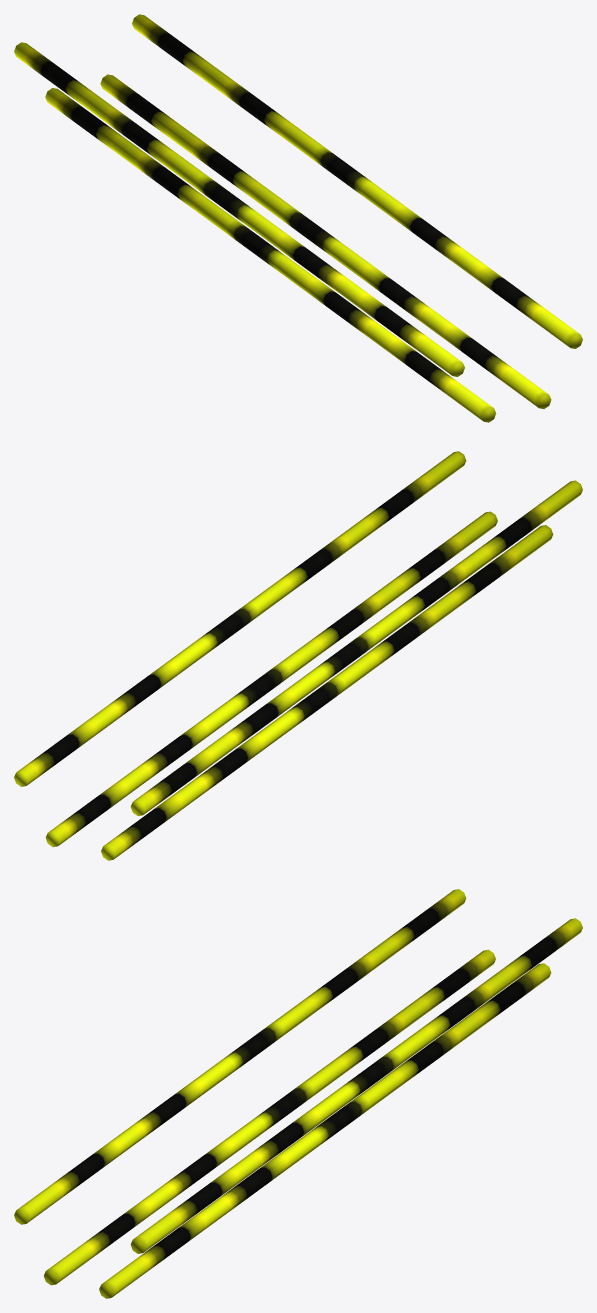
Rendered from pipe2.glb.
3 renders of one model, top to bottom at view 1: azimuth 30°, elevation 25°; view 2: azimuth 150°, elevation 25°; view 3: azimuth 330°, elevation 25°, orthographic.
Visible parts, largest first — view 1: Object_53; view 2: Object_53; view 3: Object_53.
Boxes of the visible parts, x1=… form: Object_53: x1=14, y1=14, x2=582, y2=422; Object_53: x1=14, y1=451, x2=582, y2=860; Object_53: x1=14, y1=889, x2=582, y2=1298.
Bounding box in the file's own units: 1.27 × 0.6231 × 7.28.
Materials: 1 (1 with a texture image).
